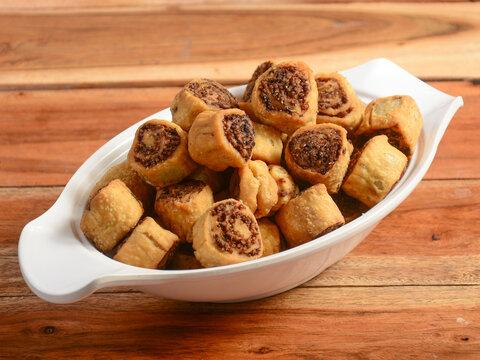bhakarwadi: (84, 61, 423, 265)
